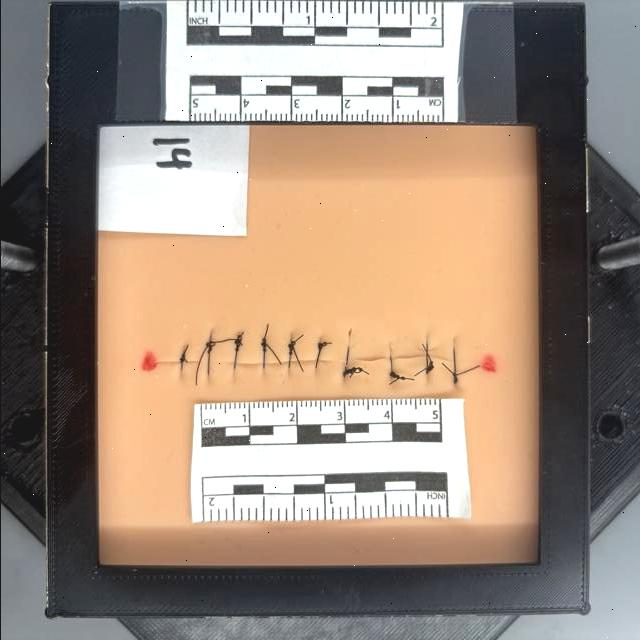incision_line: (143, 358, 489, 368)
scale_marker: (200, 402, 248, 429)
suture_d: (348, 353, 390, 366), (391, 352, 426, 364), (232, 359, 264, 368), (207, 358, 235, 368), (318, 358, 346, 368), (288, 358, 318, 367), (426, 358, 456, 367), (181, 359, 209, 367), (262, 360, 290, 368)
suture_l: (230, 334, 243, 364), (203, 332, 215, 362), (342, 333, 352, 363), (286, 334, 295, 362), (449, 338, 457, 364), (314, 340, 323, 362), (422, 336, 429, 364), (260, 340, 268, 364), (178, 344, 188, 362), (386, 344, 392, 364)
suture_r: (385, 358, 393, 377), (450, 364, 456, 384), (206, 361, 212, 379), (422, 358, 428, 374), (176, 362, 184, 374), (342, 358, 346, 378), (284, 360, 292, 370), (230, 364, 234, 380), (312, 357, 316, 372), (260, 362, 266, 372)
